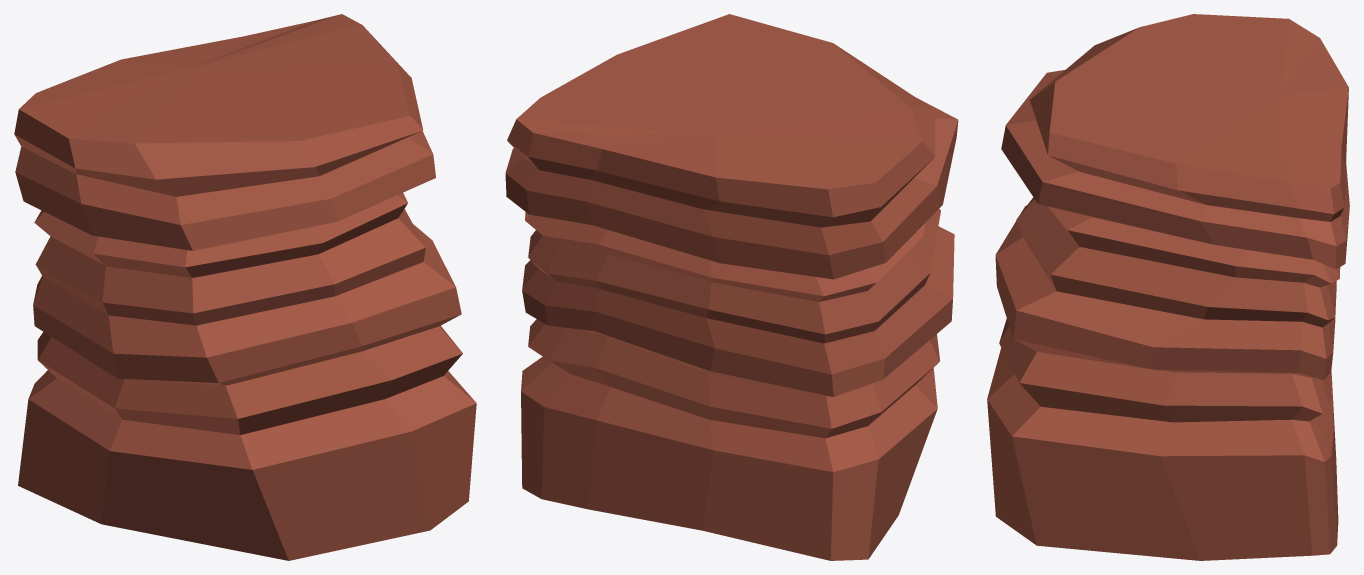
Rendered from crag_004.fbx.
3 renders of one model, left to right at view 1: azimuth 30°, elevation 25°; view 2: azimuth 150°, elevation 25°; view 3: azimuth 270°, elevation 25°, orthographic.
Parts seen in each view (by area): view 1: crag_004; view 2: crag_004; view 3: crag_004.
Part boxes in pixels (x1=…): crag_004: x1=14, y1=14, x2=476, y2=560; crag_004: x1=505, y1=14, x2=958, y2=560; crag_004: x1=987, y1=14, x2=1349, y2=560.
Size of the model in its own units: 1116 by 973 by 1167.
